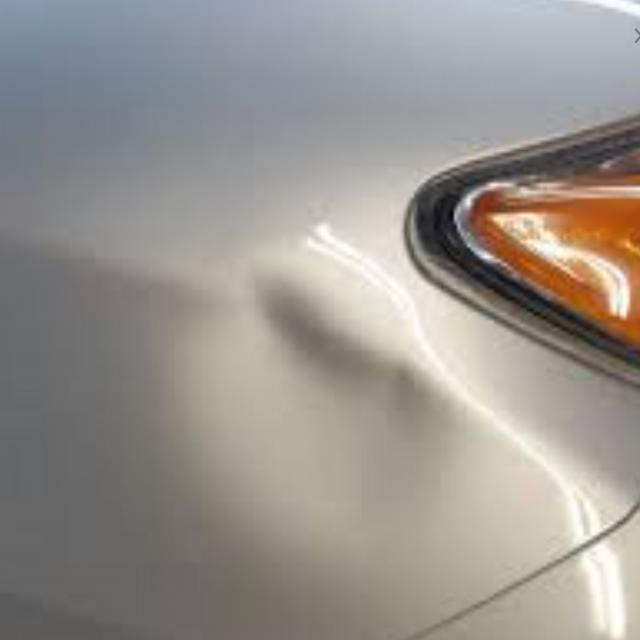dents: (194, 219, 481, 560)
